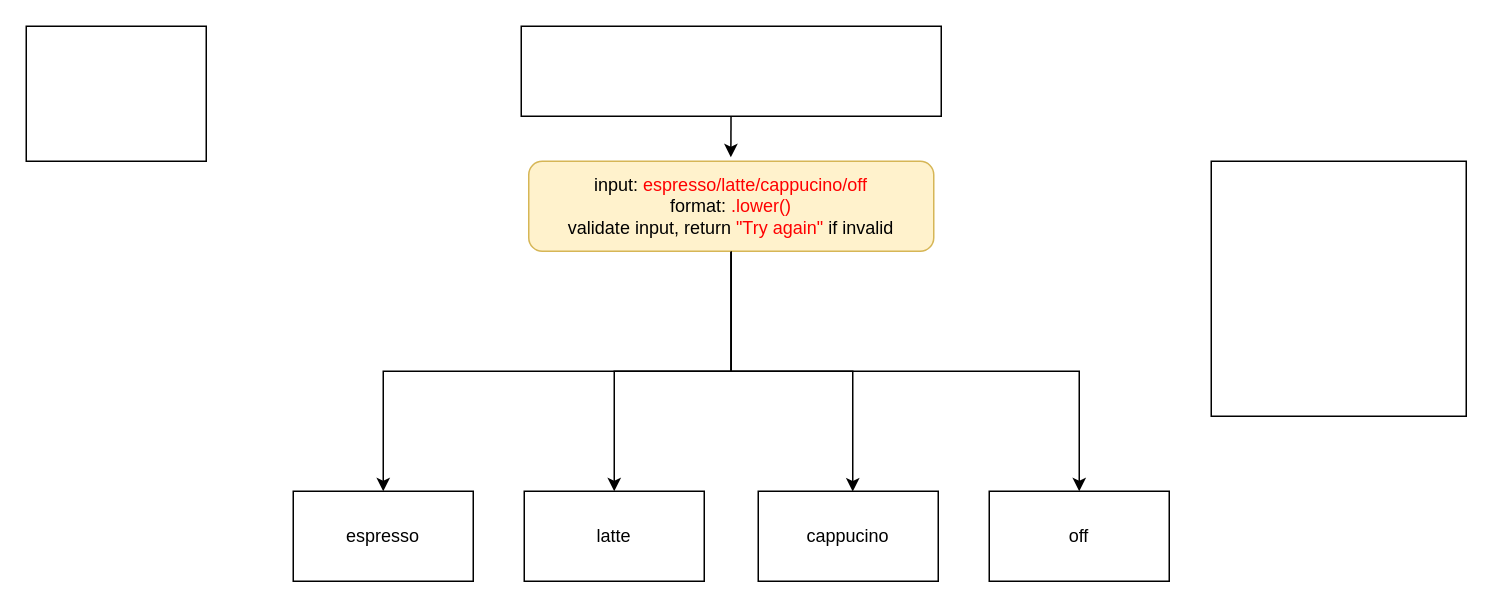
Some shapes in this 1493 by 608 pixel diagram are drawn without their labels. The shapes that lost their labels are listed below. From the top down, each one's centre as x and y in pixels, then its label:
point (730, 70): Prompt: “What would you like? (espresso/latte/cappuccino):”
point (115, 93): Print Report "Water:" "Milk:" "Coffee" "Money:"
point (1338, 288): Resources Water
